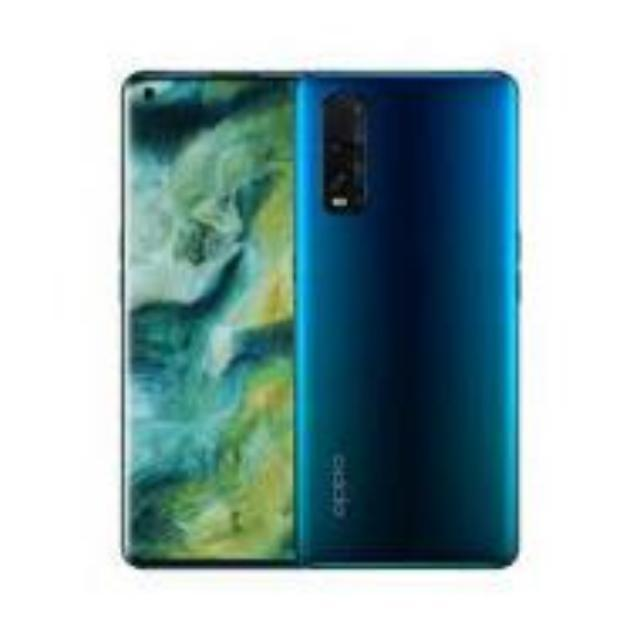Phone: (299, 66, 517, 568), (125, 70, 293, 570)
